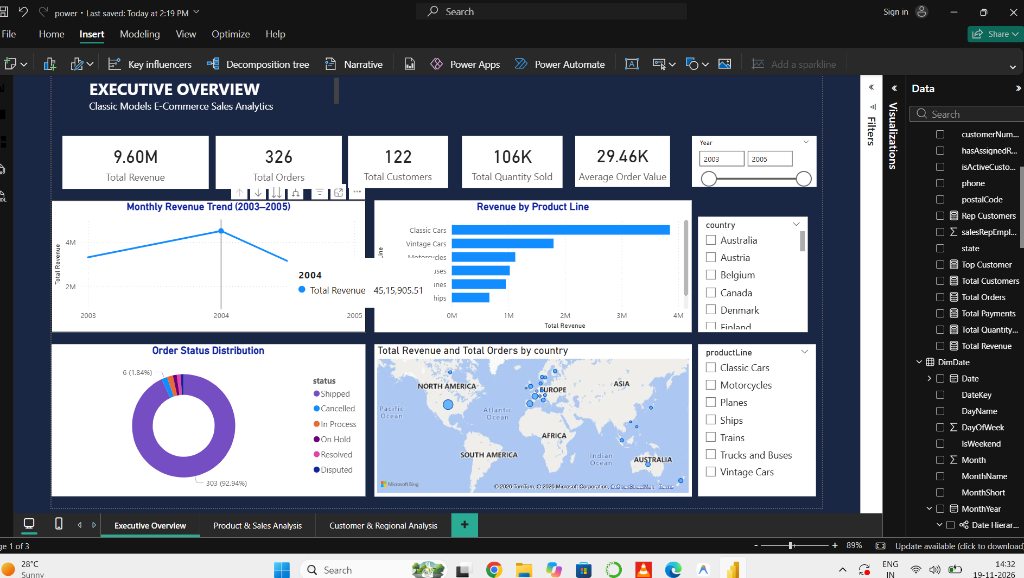

The page's visual inventory and layout, read from the dashboard file:
{"tool":"powerbi","page":{"name":"Executive Overview","canvas":[1280,720],"ordinal":0},"visuals":[{"type":"card","fields":{"Values":["DimCustomer.Total Revenue"]},"box":[17.8,101.5,242.9,87.8],"z":0},{"type":"card","fields":{"Values":["DimCustomer.Total Orders"]},"box":[273.1,101.5,209.9,87.8],"z":1},{"type":"card","fields":{"Values":["DimCustomer.Total Quantity Sold"]},"box":[682,101.5,167.4,86.4],"z":2},{"type":"card","fields":{"Values":["DimCustomer.Average Order Value"]},"box":[870,101.5,157.8,85.1],"z":3},{"type":"card","fields":{"Values":["DimCustomer.Total Customers"]},"box":[492.6,101.5,166,86.4],"z":4},{"type":"lineChart","title":"Monthly Revenue Trend (2003–2005)","fields":{"Category":["DimDate.MonthYear.Variation.Date Hierarchy.Year","DimDate.MonthYear.Variation.Date Hierarchy.Quarter","DimDate.MonthYear.Variation.Date Hierarchy.Month","DimDate.MonthYear.Variation.Date Hierarchy.Day"],"Y":["DimCustomer.Total Revenue"]},"box":[0,208.6,521.4,219.6],"z":5},{"type":"clusteredBarChart","title":"Revenue by Product Line        ","fields":{"Category":["DimProduct.productLine"],"Y":["DimCustomer.Total Revenue"]},"box":[536.5,208.6,526.9,219.6],"z":6},{"type":"donutChart","title":"Order Status Distribution","fields":{"Category":["FactOrderDetails.status"],"Y":["DimCustomer.Total Orders"]},"box":[0,447.3,521.4,252.5],"z":7},{"type":"slicer","fields":{"Values":["DimDate.Year"]},"box":[1063.5,101.5,207.2,85.1],"z":8},{"type":"slicer","fields":{"Values":["DimCustomer.country"]},"box":[1074.4,236,182.5,192.1],"z":9},{"type":"slicer","fields":{"Values":["DimProduct.productLine"]},"box":[1074.4,447.3,196.2,252.5],"z":10},{"type":"map","fields":{"Category":["DimCustomer.country"],"Size":["DimCustomer.Total Revenue"]},"box":[536.5,447.3,526.9,252.5],"z":11},{"type":"textbox","box":[57.6,0,425.4,72.7],"z":12}]}

Visuals, with their boxes on the page's 1280x720 design canvas (x1, y1, x2, y2). These are canvas units, not pixel positions in the 1024x578 screenshot, which may show the page scaled, cropped or inside an application window:
card - DimCustomer.Total Revenue: <box>18,102,261,189</box>
card - DimCustomer.Total Orders: <box>273,102,483,189</box>
card - DimCustomer.Total Quantity Sold: <box>682,102,849,188</box>
card - DimCustomer.Average Order Value: <box>870,102,1028,187</box>
card - DimCustomer.Total Customers: <box>493,102,659,188</box>
"Monthly Revenue Trend (2003–2005)" lineChart: <box>0,209,521,428</box>
"Revenue by Product Line        " clusteredBarChart: <box>536,209,1063,428</box>
"Order Status Distribution" donutChart: <box>0,447,521,700</box>
slicer - DimDate.Year: <box>1064,102,1271,187</box>
slicer - DimCustomer.country: <box>1074,236,1257,428</box>
slicer - DimProduct.productLine: <box>1074,447,1271,700</box>
map - DimCustomer.country x DimCustomer.Total Revenue: <box>536,447,1063,700</box>
textbox: <box>58,0,483,73</box>
